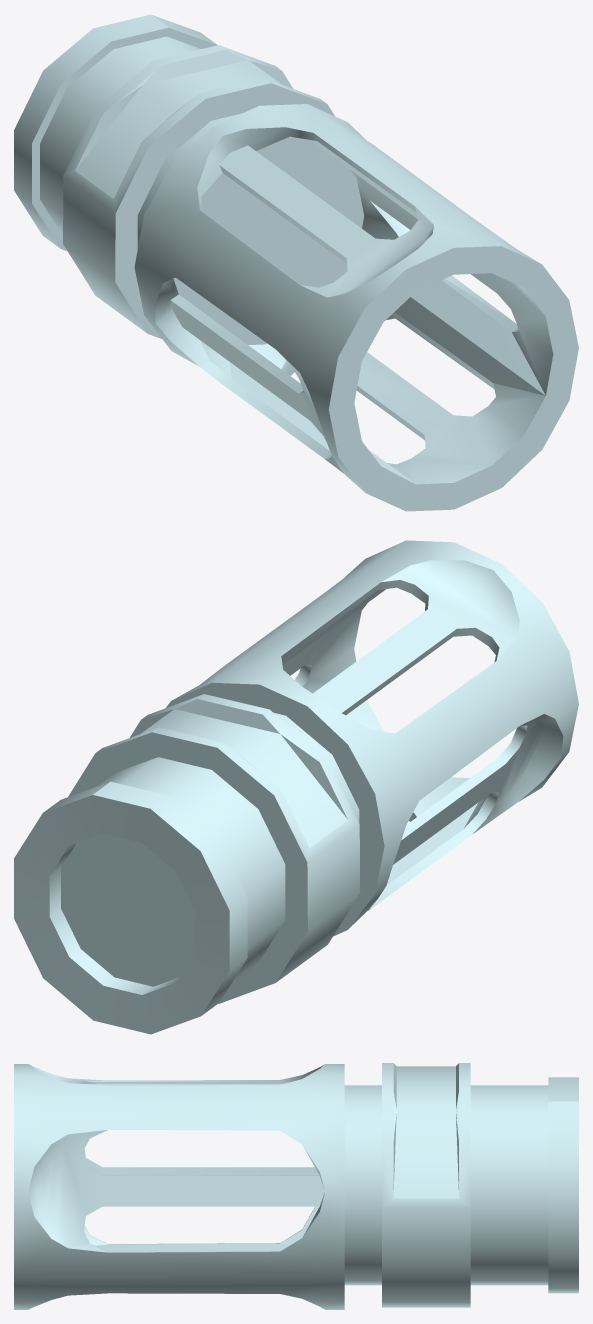
File: flashhider.fbx
3 views of the same model, one above another, from view 1: azimuth 30°, elevation 25°; view 2: azimuth 150°, elevation 25°; view 3: azimuth 270°, elevation 25° (orthographic). The views are drawn at different scales.
Visible parts, largest first — view 1: pistol_flashhider; view 2: pistol_flashhider; view 3: pistol_flashhider.
Boxes of the visible parts, box(x1,y1,x2,y2) form: pistol_flashhider: box(14, 14, 578, 511); pistol_flashhider: box(14, 540, 578, 1034); pistol_flashhider: box(14, 1063, 578, 1309).
Size of the model in its own units: 0.7618 by 0.7618 by 1.75.
